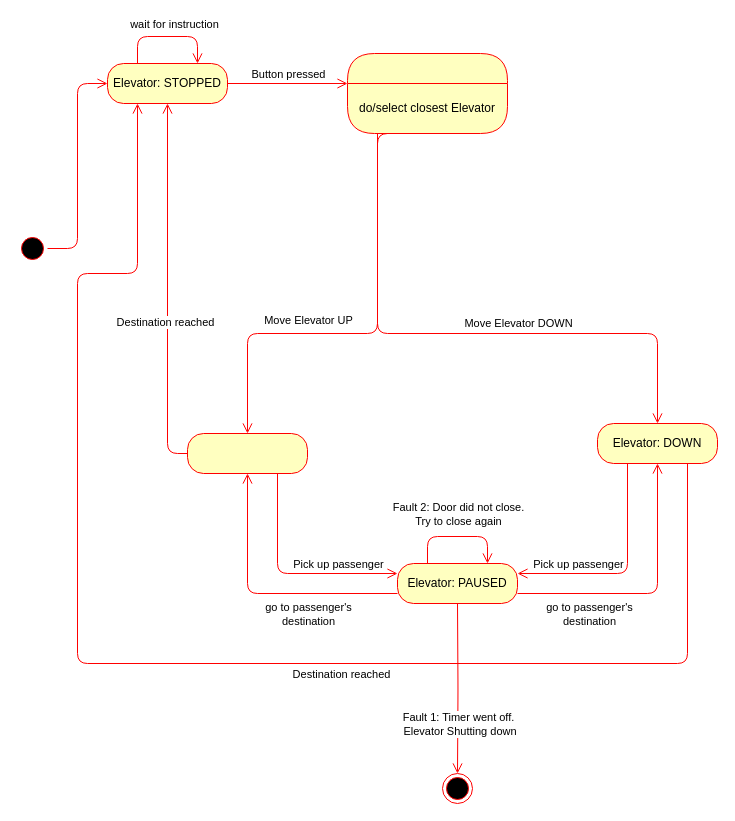
Some shapes in this 735 by 821 pixel diagram are drawn without their labels. Here are the shapes that lost their labels. From the top down, the box of each, then its label:
(346, 52, 508, 134): Scheduler: Select Optimal Elevator
(186, 432, 308, 474): Elevator: UP
